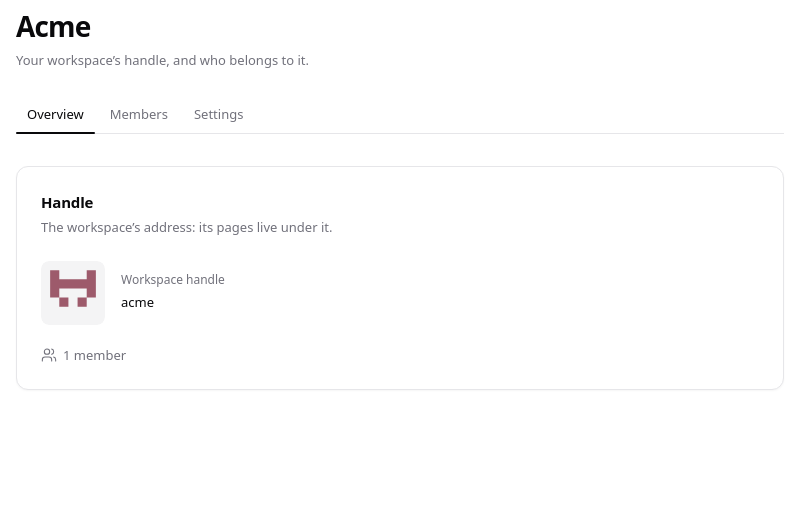
an admin can invite and rename
Expected: the button with aria-label "Edit workspace handle" is shown, top-left (115, 290), bottom-right (180, 314)
Press the mouse on the tab "Members" at (139, 114), box top-left (99, 98), bottom-right (179, 130)
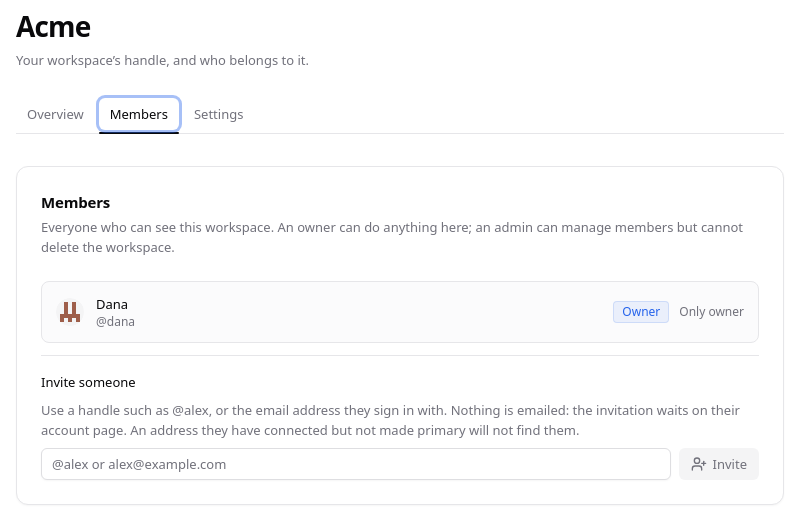
Expected: the field named "Handle or email address" is shown, top-left (41, 448), bottom-right (671, 480)
